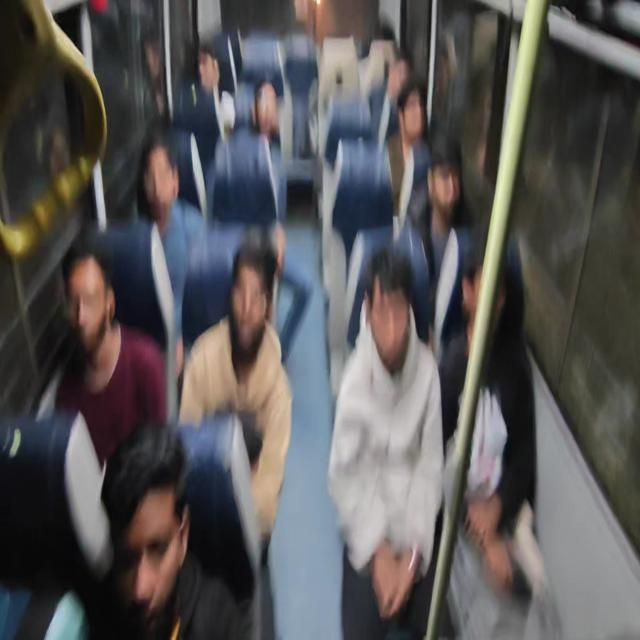person: (103, 418, 193, 621), (224, 236, 278, 374), (61, 238, 119, 359), (364, 246, 416, 371), (137, 127, 190, 238), (456, 229, 510, 334), (424, 130, 459, 225), (392, 71, 428, 144), (252, 71, 284, 146), (191, 38, 223, 106), (361, 27, 391, 60), (388, 49, 408, 85)
